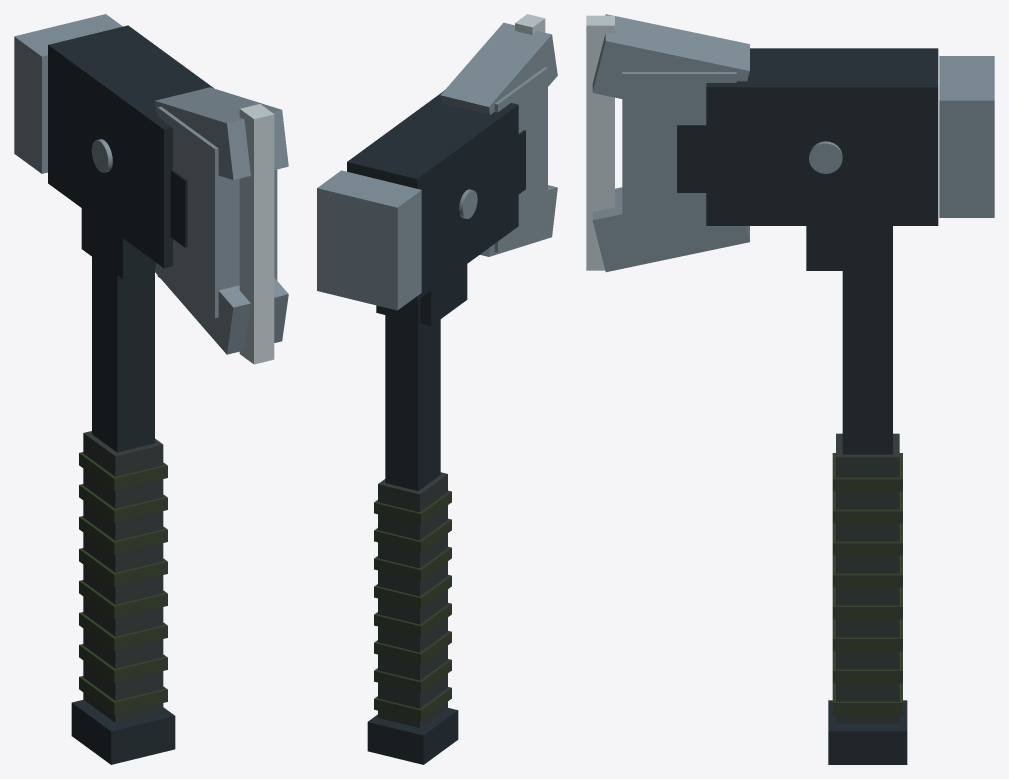
Rendered from melee_military_hatchet.glb.
3 renders of one model, left to right at view 1: azimuth 30°, elevation 25°; view 2: azimuth 150°, elevation 25°; view 3: azimuth 270°, elevation 25°, orthographic. The views are drawn at different scales.
Visible parts, largest first — view 1: axe_head, grip, handle_core, blade_body, cutting_edge, poll, blade_flare_top, handle_end, blade_flare_bottom, handle_neck, grip_rib_2, grip_rib_0 (+8 smaller); view 2: axe_head, poll, grip, handle_core, blade_flare_top, blade_body, handle_end, handle_neck, blade_flare_bottom, grip_rib_0, grip_rib_1, grip_rib_4 (+8 smaller); view 3: axe_head, blade_body, grip, handle_core, poll, blade_flare_top, cutting_edge, handle_neck, handle_end, blade_flare_bottom, blade_center, grip_rib_7 (+8 smaller).
Part boxes in pixels (x1,y1,x2,y2): axe_head: (48, 25, 213, 268); grip: (83, 431, 163, 722); handle_core: (92, 257, 154, 452); blade_body: (157, 106, 277, 318); cutting_edge: (239, 104, 274, 364); poll: (14, 14, 122, 173); blade_flare_top: (155, 87, 288, 179); handle_end: (71, 699, 175, 764); blade_flare_bottom: (155, 263, 288, 354); handle_neck: (81, 208, 155, 278); grip_rib_2: (79, 612, 167, 650); grip_rib_0: (79, 676, 167, 714); axe_head: (347, 92, 518, 300); poll: (317, 170, 421, 310); grip: (378, 472, 447, 727); handle_core: (385, 298, 440, 490); blade_flare_top: (440, 22, 557, 114); blade_body: (443, 67, 547, 252); handle_end: (367, 708, 458, 764); handle_neck: (376, 264, 467, 325); blade_flare_bottom: (480, 185, 557, 256); grip_rib_0: (374, 687, 451, 720); grip_rib_1: (374, 659, 451, 692); grip_rib_4: (374, 574, 451, 608); axe_head: (706, 48, 938, 225); blade_body: (622, 72, 736, 242); grip: (836, 433, 899, 723); handle_core: (842, 226, 892, 454); poll: (939, 56, 994, 217); blade_flare_top: (592, 14, 749, 98); cutting_edge: (586, 15, 614, 270); handle_neck: (806, 226, 888, 270); handle_end: (828, 700, 907, 764); blade_flare_bottom: (592, 187, 749, 272); blade_center: (677, 125, 706, 192); grip_rib_7: (832, 453, 902, 491).
Size of the model in its own units: 0.063 by 0.4785 by 0.243.
